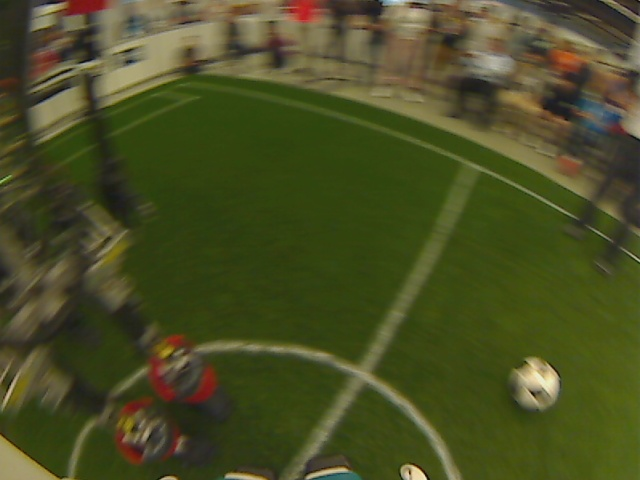ball: (505, 357, 561, 413)
